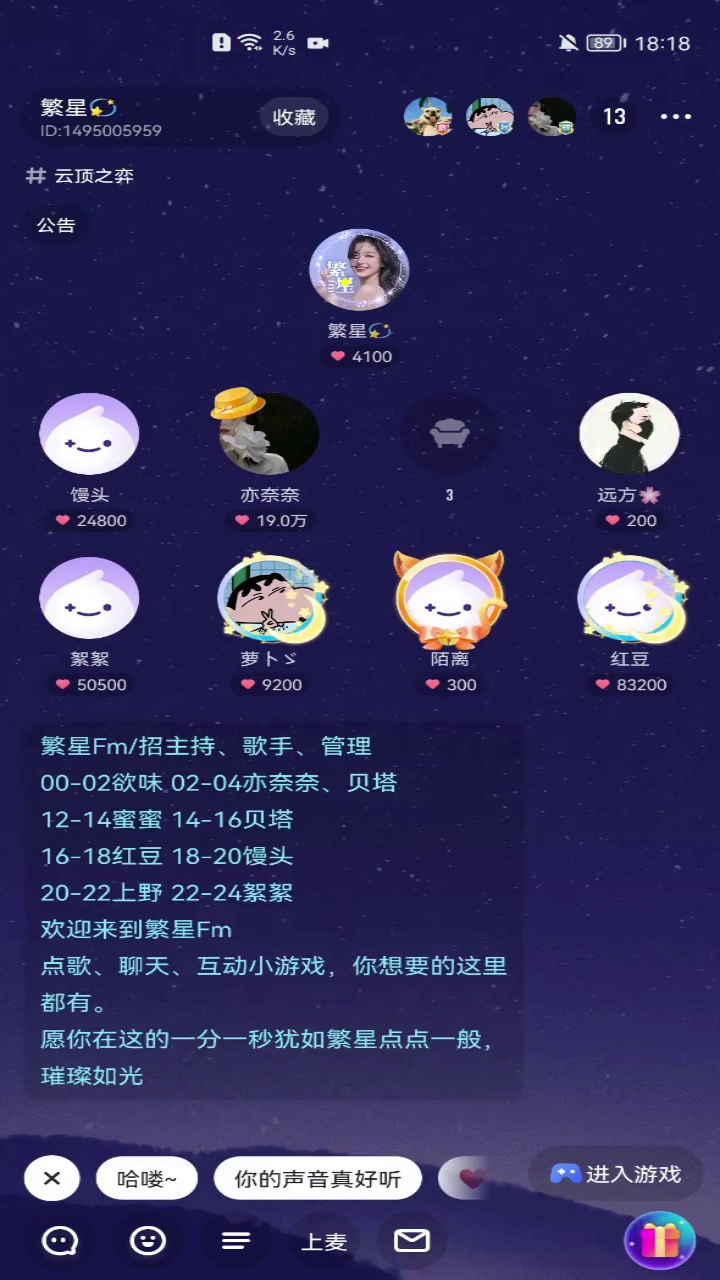avatar: (380, 541, 521, 654), (567, 541, 700, 650), (31, 380, 144, 480), (33, 553, 147, 648)
